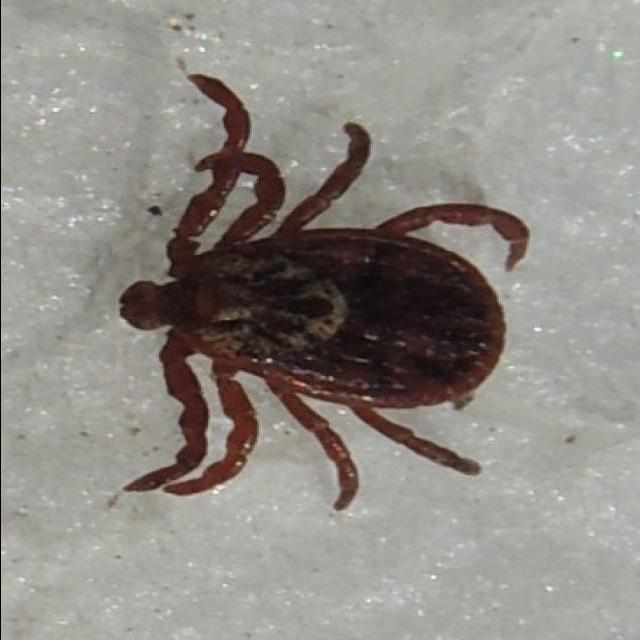Dermacentor Reticulatus-F: (114, 72, 530, 513)
